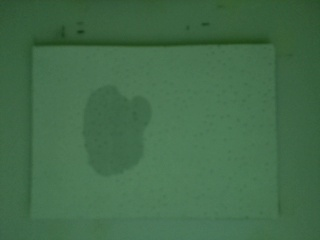Water_detected: (85, 98, 139, 163)
